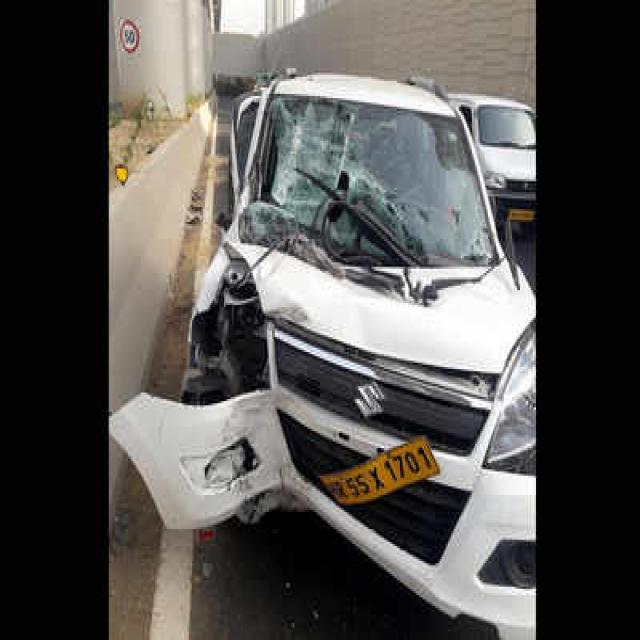accident: (111, 77, 535, 638)
